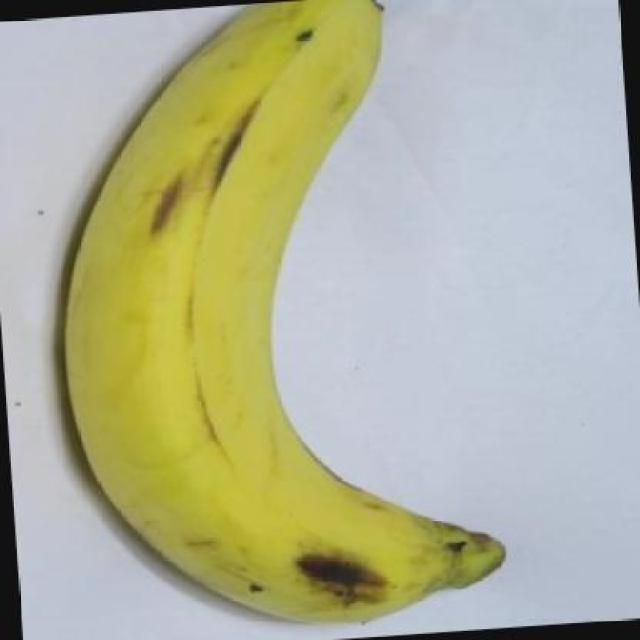ripe: (21, 0, 504, 621)
